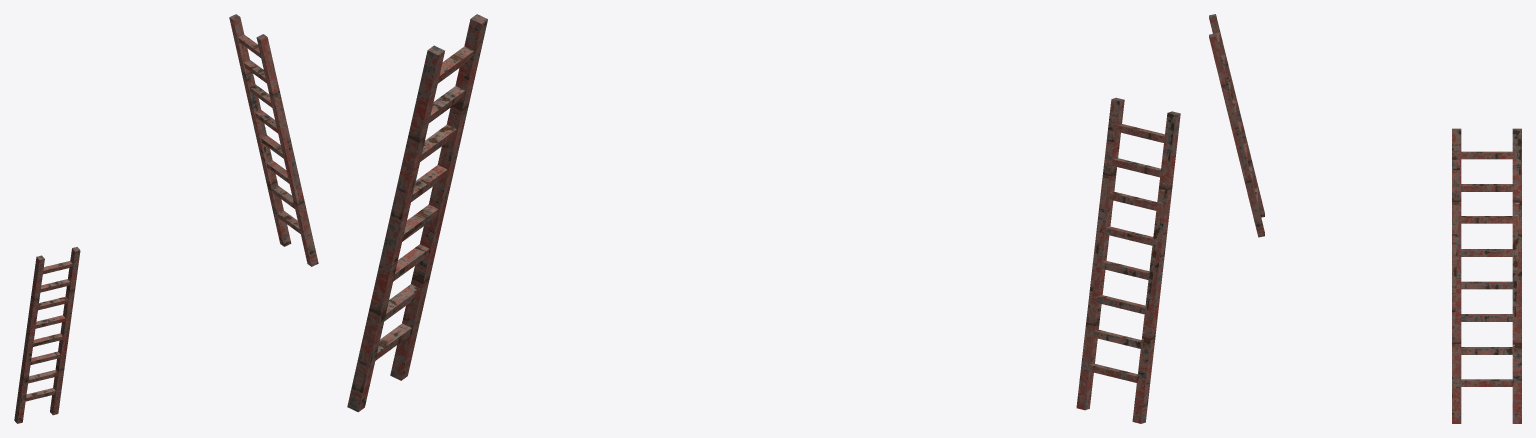
File: echelles.glb
3 views of the same model, side by side, from view 1: azimuth 30°, elevation 25°; view 2: azimuth 150°, elevation 25°; view 3: azimuth 270°, elevation 25° (orthographic). The views are drawn at different scales.
Visible parts, largest first — view 1: echelles; view 2: echelles; view 3: echelles.
Part boxes in pixels (<box>): echelles: <box>14,14,318,423</box>; echelles: <box>347,14,1180,423</box>; echelles: <box>1209,14,1521,423</box>.
Size of the model in its own units: 4.49 by 2.66 by 2.82.
Materials: 1 (1 with a texture image).
